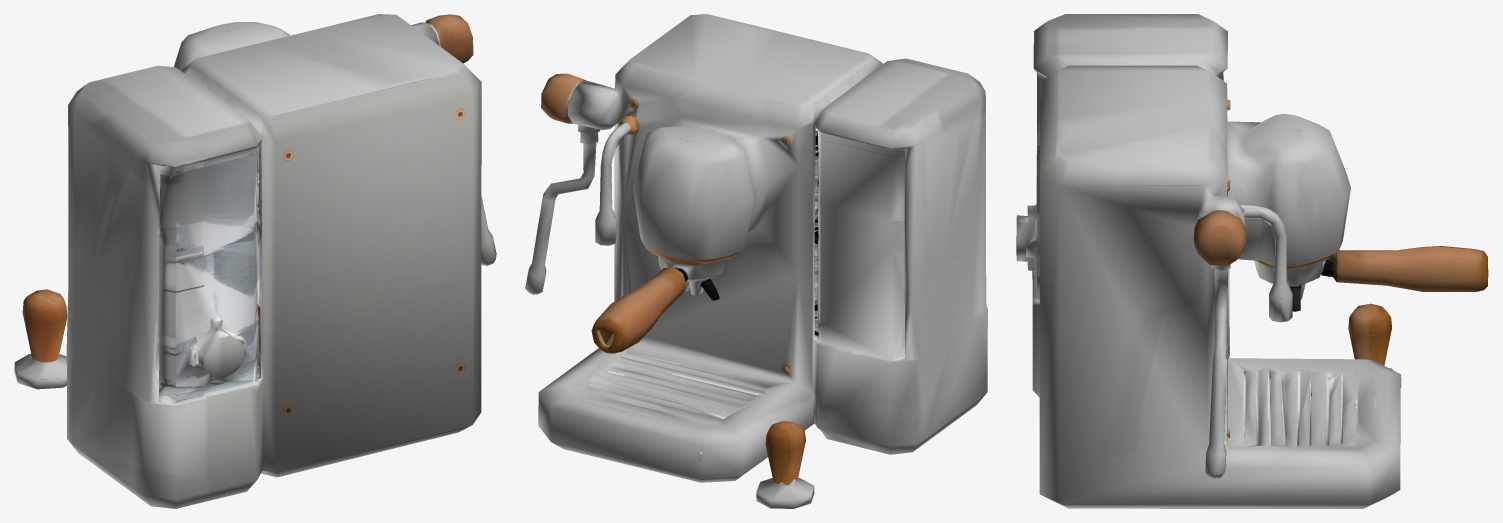
Rendered from espresso.glb.
3 renders of one model, left to right at view 1: azimuth 30°, elevation 25°; view 2: azimuth 150°, elevation 25°; view 3: azimuth 270°, elevation 25°, orthographic. The views are drawn at different scales.
Visible parts, largest first — view 1: Mesh1.0; view 2: Mesh1.0; view 3: Mesh1.0.
Part boxes in pixels (bbox=[...]): Mesh1.0: bbox=[14, 14, 496, 508]; Mesh1.0: bbox=[525, 14, 987, 508]; Mesh1.0: bbox=[1016, 14, 1488, 508].
Size of the model in its own units: 1.45 by 1.15 by 1.41.
Materials: 1 (1 with a texture image).
